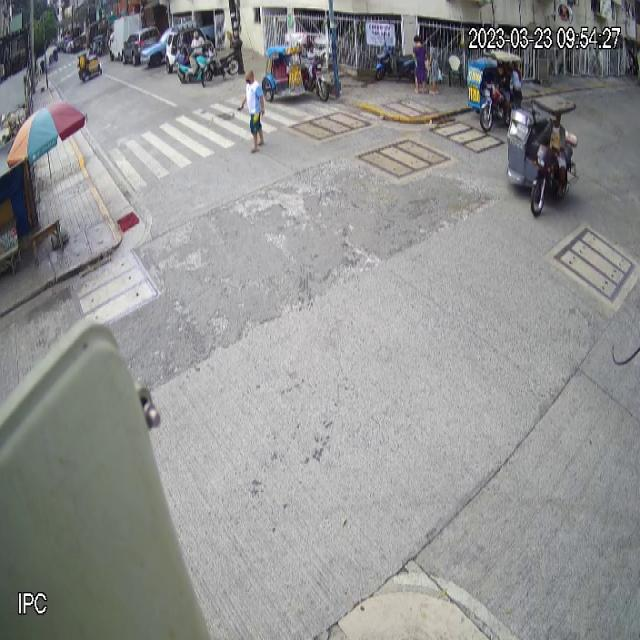Tricycle: (504, 97, 580, 217), (262, 32, 330, 103), (467, 50, 521, 130)
